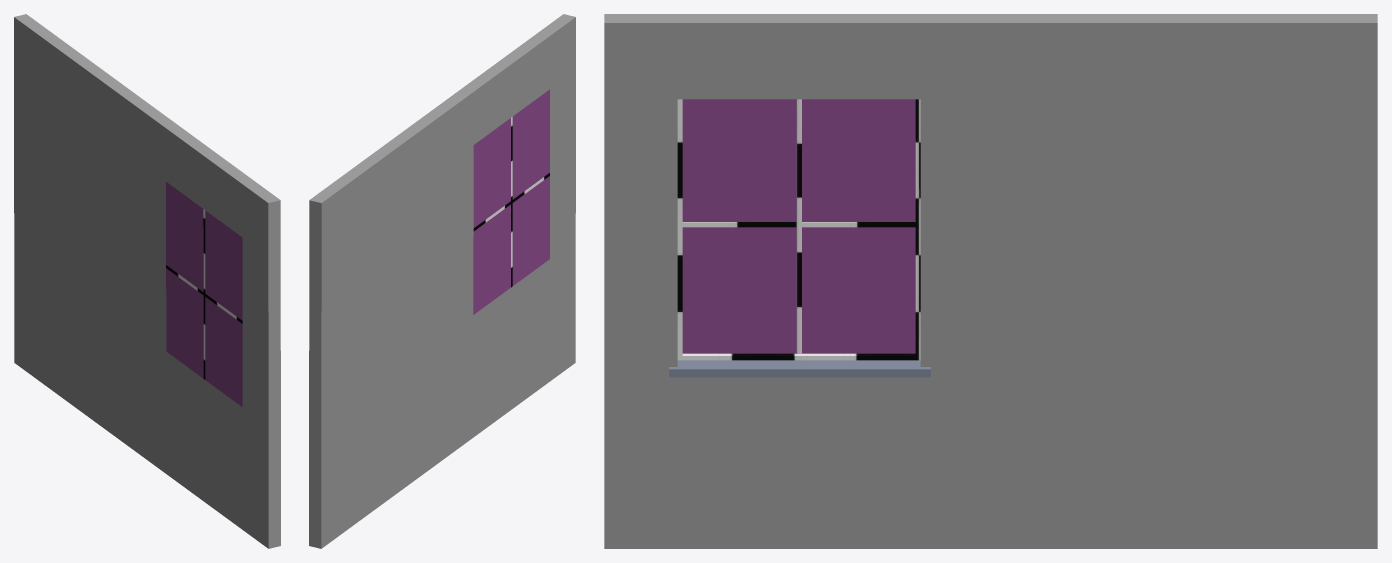
File: stereo wall.fbx
3 views of the same model, side by side, from view 1: azimuth 30°, elevation 25°; view 2: azimuth 150°, elevation 25°; view 3: azimuth 270°, elevation 25° (orthographic). The views are drawn at different scales.
Visible parts, largest first — view 1: wall, window, white_trim; view 2: wall, window, white_trim; view 3: wall, window, white_trim, windowsill.
Boxes of the visible parts, x1,y1,x2,y2 form: wall: [14, 14, 280, 548]; window: [166, 182, 242, 406]; white_trim: [166, 209, 242, 379]; wall: [309, 14, 575, 548]; window: [473, 89, 549, 314]; white_trim: [473, 117, 549, 287]; wall: [604, 14, 1377, 548]; window: [682, 99, 915, 353]; white_trim: [677, 99, 920, 360]; windowsill: [669, 360, 930, 377].
Size of the model in its own units: 0.1309 by 2.74 by 3.66.
Materials: 4 (1 with a texture image).
